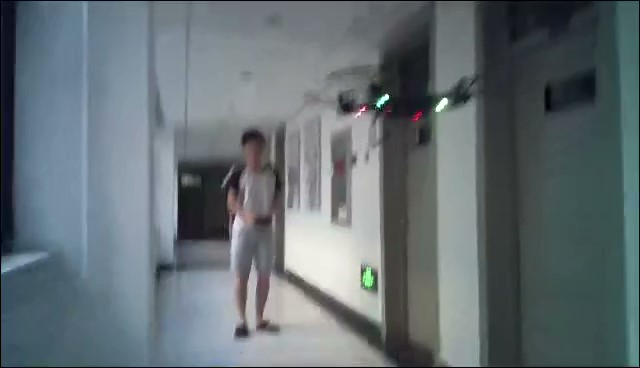drone: (290, 64, 502, 150)
person: (218, 124, 285, 338)
